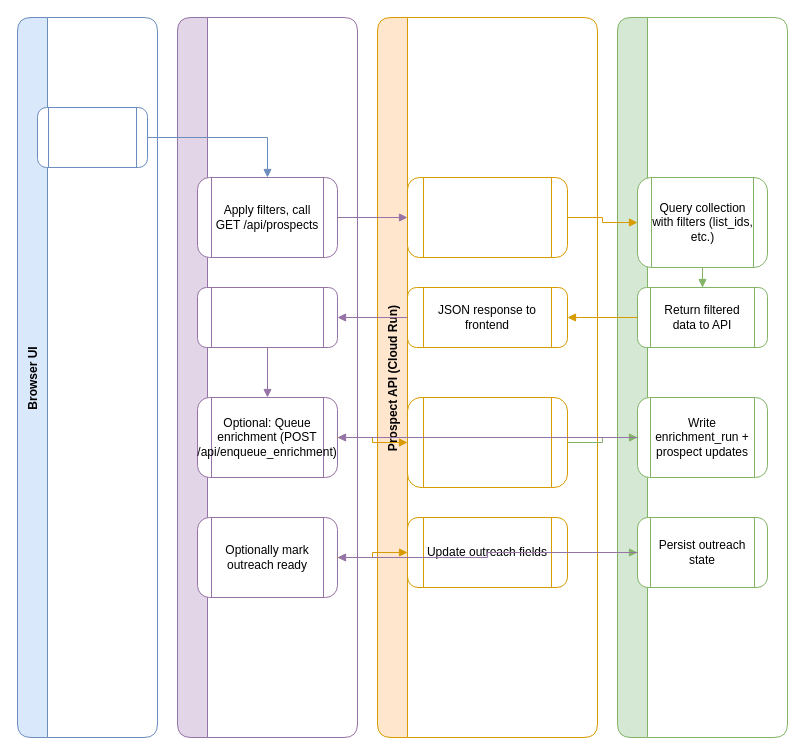
Some shapes in this 805 by 755 pixel diagram are drawn without their labels. Here are the shapes that lost their labels. From the top down, the box of each, then its label:
(36, 106, 148, 168): Select filters & click refresh
(406, 176, 568, 258): Validate query, fetch prospects
(196, 286, 338, 348): Render table with updated prospects
(176, 16, 358, 738): Prospect Frontend (Vercel)
(616, 16, 788, 738): Firestore
(406, 396, 568, 488): Create run doc, batch update prospects
